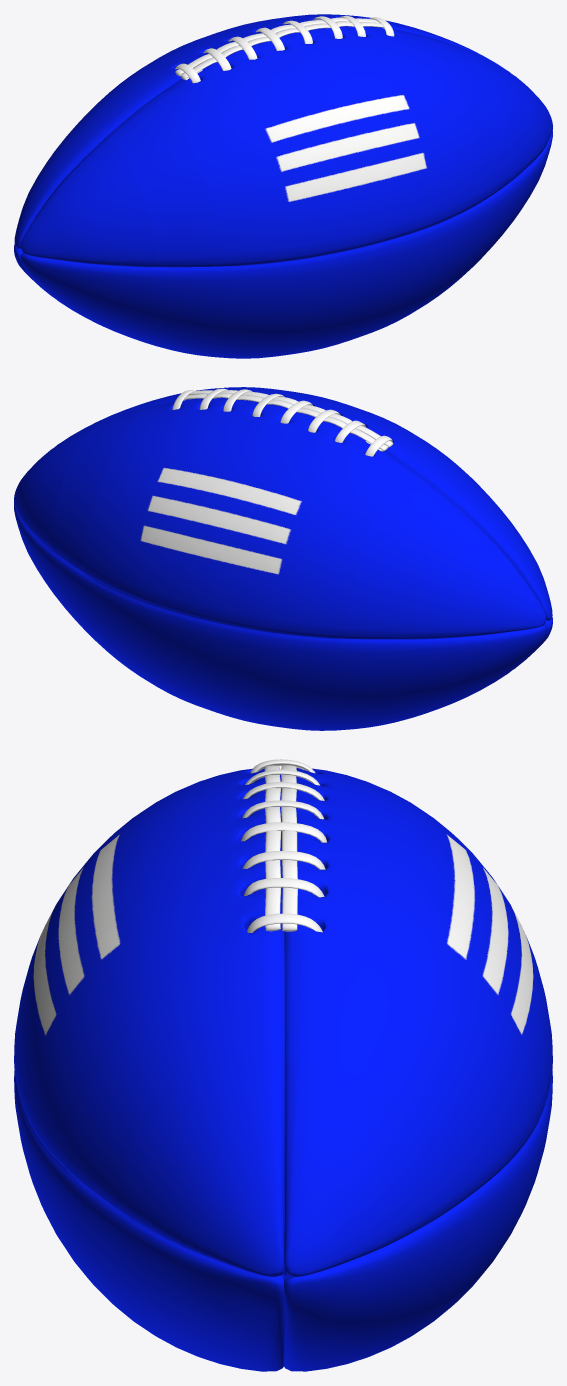
File: justtex.fbx
The picture shows the model from 3 angles, top to bottom: view 1: azimuth 30°, elevation 25°; view 2: azimuth 150°, elevation 25°; view 3: azimuth 270°, elevation 25°; orthographic projection. The views are drawn at different scales.
Visible parts, largest first — view 1: Ball_Sphere, Lace_big_1_CUPlane_002, Lace_big_2_CUPlane_000; view 2: Ball_Sphere, Lace_big_2_CUPlane_000, Lace_big_1_CUPlane_002; view 3: Ball_Sphere, Lace_big_2_CUPlane_000, Lace_big_1_CUPlane_002, Lace__small_2_CUPlane_001, Lace__small_4_CUPlane, Lace_small_3_CUPlane_004, Lace__small_1_CUPlane_003.
Part boxes in pixels (x1,y1,x2,y2): Ball_Sphere: (14, 14, 552, 358); Lace_big_1_CUPlane_002: (180, 21, 384, 80); Lace_big_2_CUPlane_000: (175, 17, 379, 76); Ball_Sphere: (14, 387, 552, 730); Lace_big_2_CUPlane_000: (183, 393, 388, 451); Lace_big_1_CUPlane_002: (188, 390, 393, 447); Ball_Sphere: (14, 768, 552, 1371); Lace_big_2_CUPlane_000: (281, 765, 297, 931); Lace_big_1_CUPlane_002: (264, 765, 281, 931); Lace__small_2_CUPlane_001: (244, 878, 324, 897); Lace__small_4_CUPlane: (241, 822, 326, 842); Lace_small_3_CUPlane_004: (242, 850, 325, 869); Lace__small_1_CUPlane_003: (247, 913, 322, 932).
Bounding box in the file's own units: 0.299 × 0.1667 × 0.1625.
2 materials, 1 textured.
